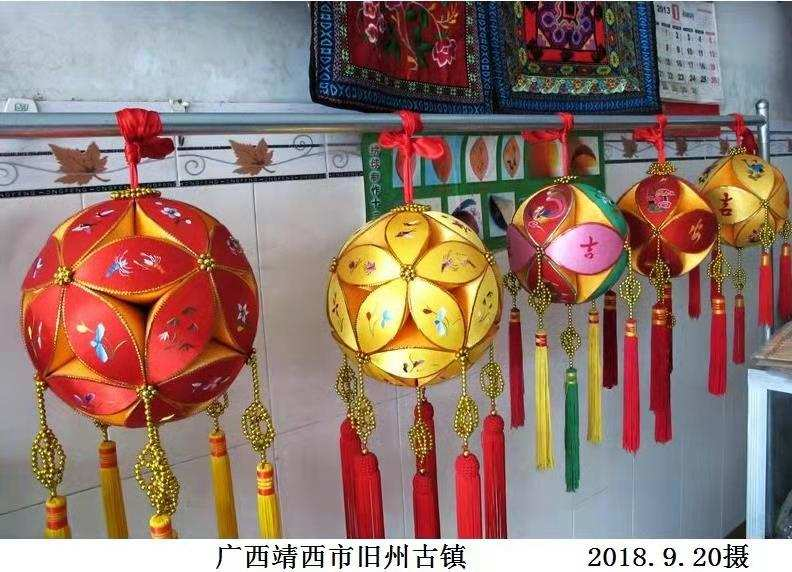xiuqiu: (24, 198, 258, 426), (607, 178, 719, 279)
